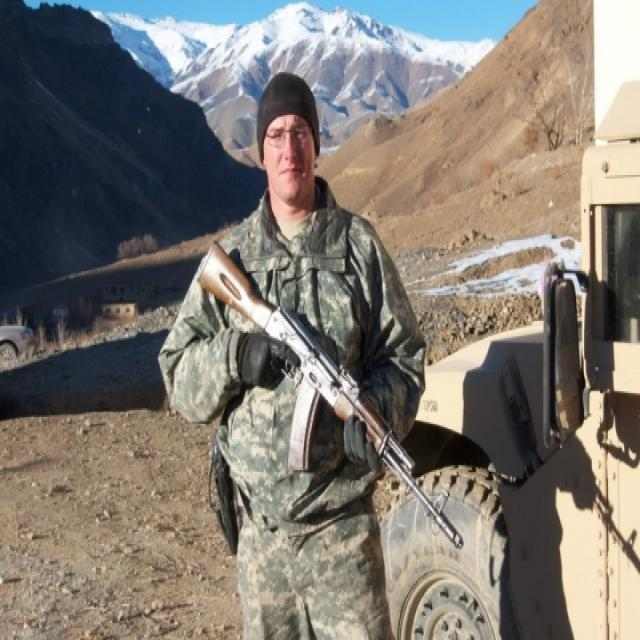gun-knife-thesis - v11 Yolov5 augmented: (195, 242, 464, 547)
